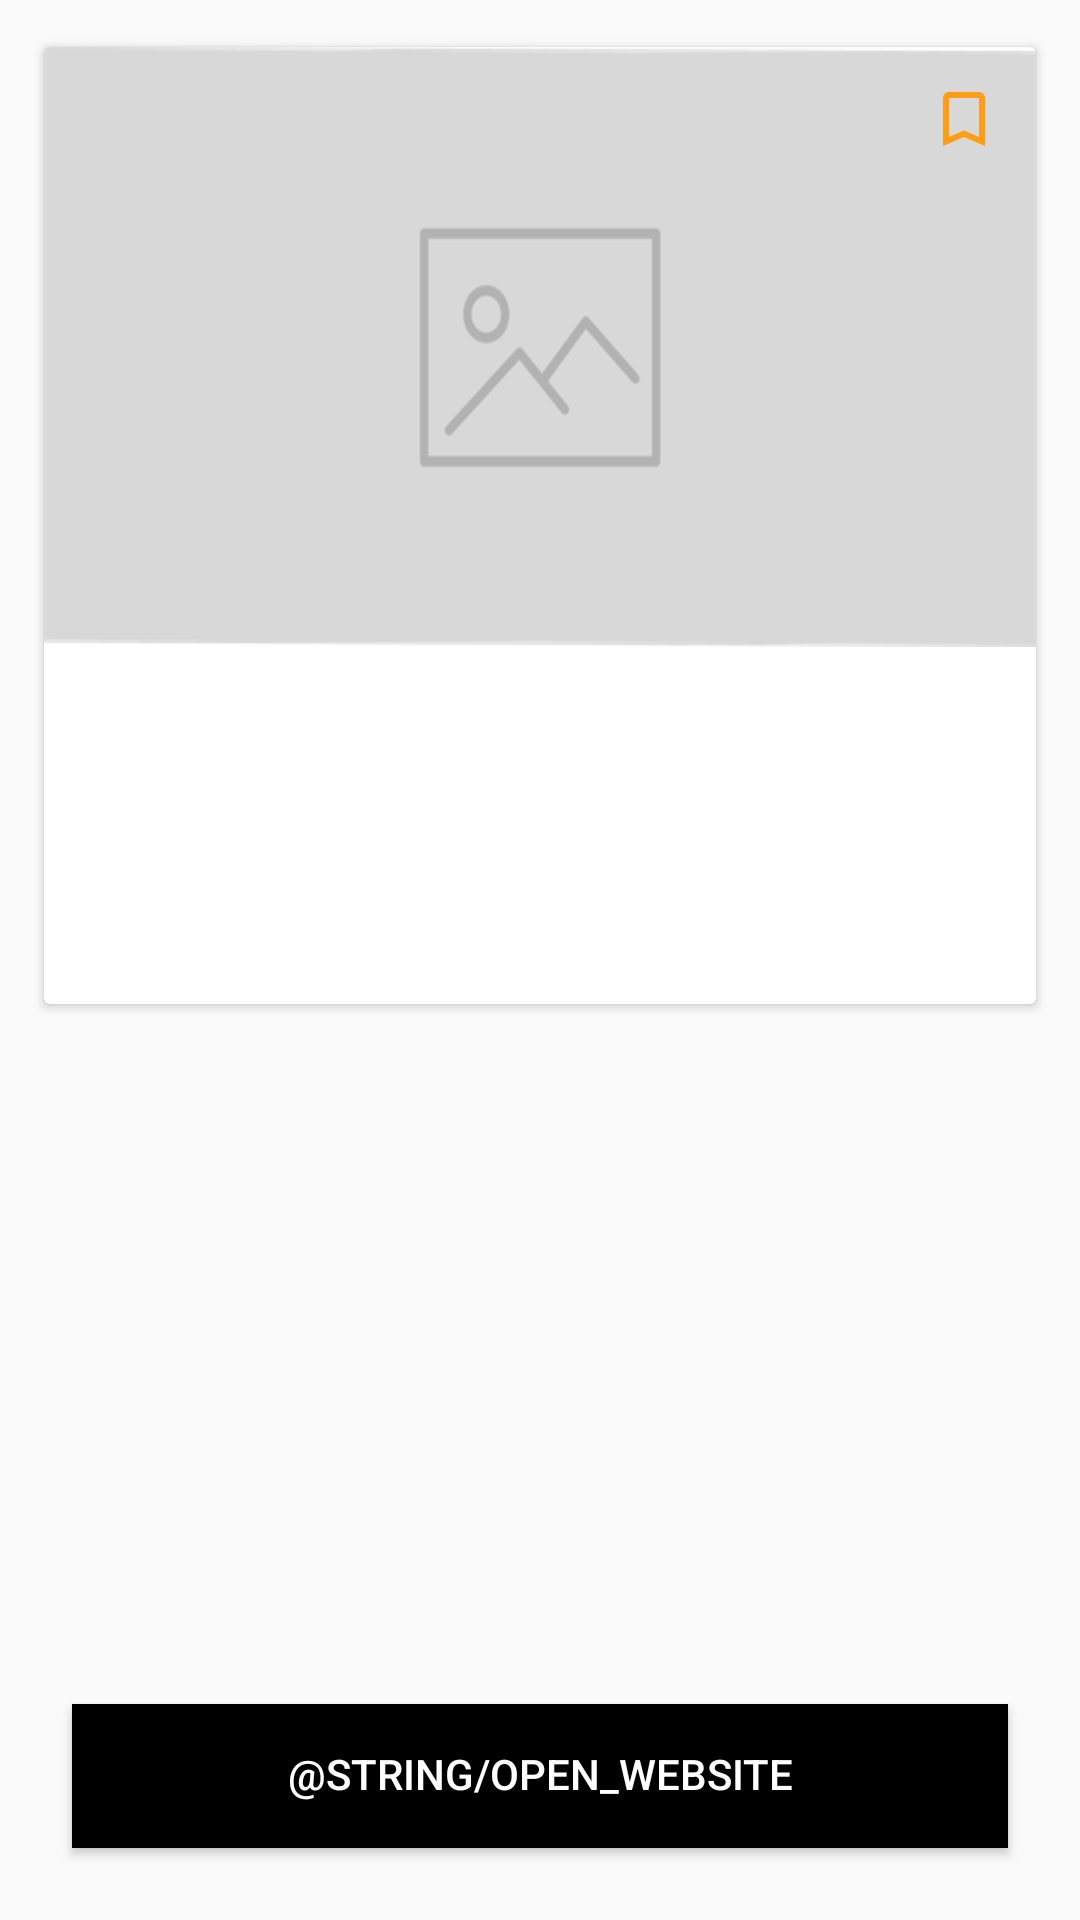

Icon click points for this 1080 × 1920 phone screenshot, format (x,y):
bookmark border: (964,119)
